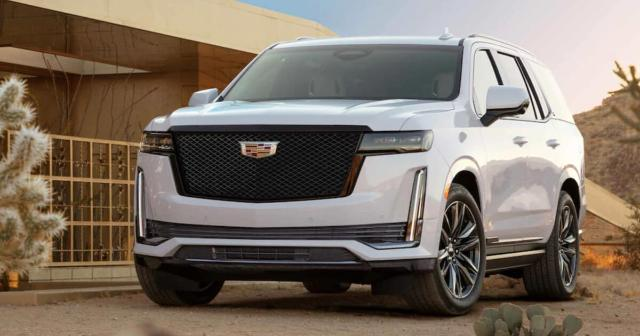cadillac: (134, 27, 586, 317)
